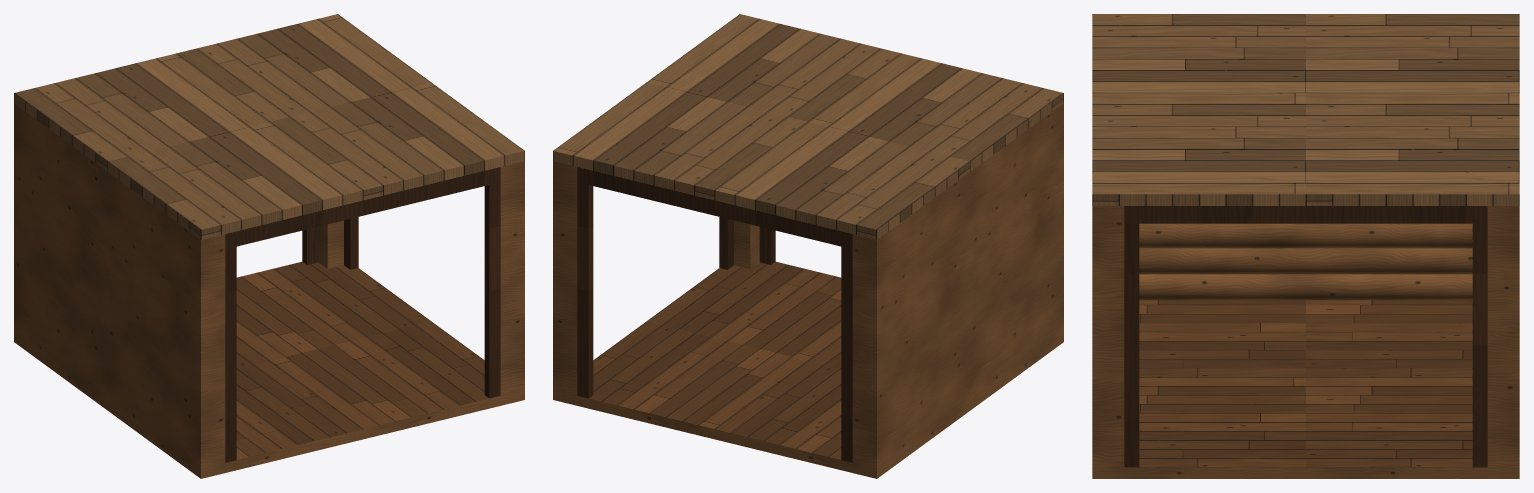
The model's file is Corridor_Cabin_T_NoLight.glb.
3 views of the same model, side by side, from view 1: azimuth 30°, elevation 25°; view 2: azimuth 150°, elevation 25°; view 3: azimuth 270°, elevation 25° (orthographic). The views are drawn at different scales.
Visible parts, largest first — view 1: Corridor_Cabin_T_NoLight, Corridor_Cabin_T_NoLight_Ceiling; view 2: Corridor_Cabin_T_NoLight, Corridor_Cabin_T_NoLight_Ceiling; view 3: Corridor_Cabin_T_NoLight, Corridor_Cabin_T_NoLight_Ceiling.
Part boxes in pixels (box(x1,y1,x2,y2)): Corridor_Cabin_T_NoLight: box(14, 103, 524, 478); Corridor_Cabin_T_NoLight_Ceiling: box(14, 14, 524, 246); Corridor_Cabin_T_NoLight: box(553, 103, 1063, 478); Corridor_Cabin_T_NoLight_Ceiling: box(553, 14, 1063, 248); Corridor_Cabin_T_NoLight: box(1092, 206, 1519, 478); Corridor_Cabin_T_NoLight_Ceiling: box(1092, 14, 1519, 223).
Size of the model in its own units: 4 by 2.94 by 4.
Materials: 5 (5 with a texture image).
